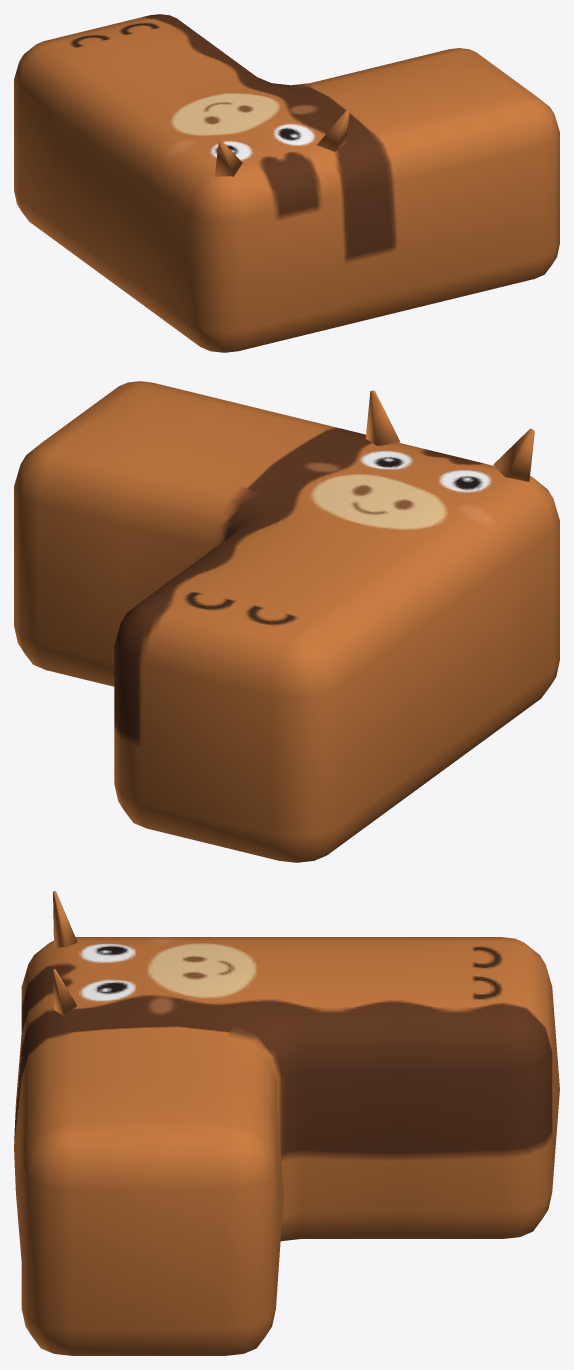
File: Horse_CornerMirror.fbx
3 renders of one model, top to bottom at view 1: azimuth 30°, elevation 25°; view 2: azimuth 150°, elevation 25°; view 3: azimuth 270°, elevation 25°, orthographic. The views are drawn at different scales.
Visible parts, largest first — view 1: Horse_CornerMirror; view 2: Horse_CornerMirror; view 3: Horse_CornerMirror.
Part boxes in pixels (<box>): Horse_CornerMirror: <box>14,14,559,352</box>; Horse_CornerMirror: <box>14,381,559,862</box>; Horse_CornerMirror: <box>14,891,559,1355</box>.
Bounding box in the file's own units: 1.98 × 1.04 × 1.98.
Materials: 1 (1 with a texture image).
